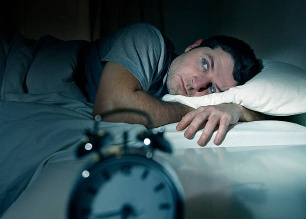male: (170, 40, 235, 101)
